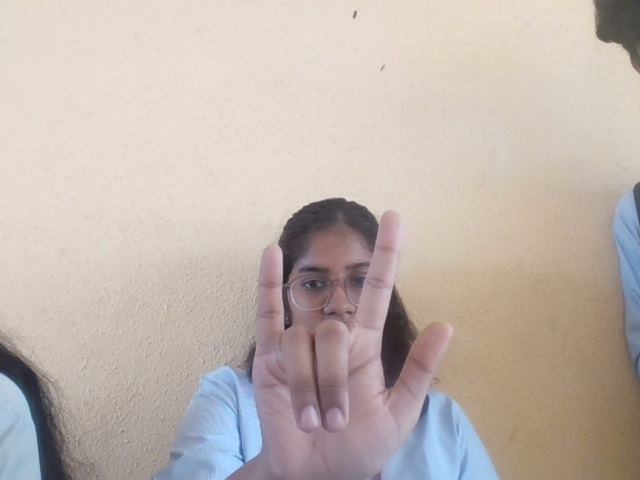I Love You: (247, 202, 456, 480)
